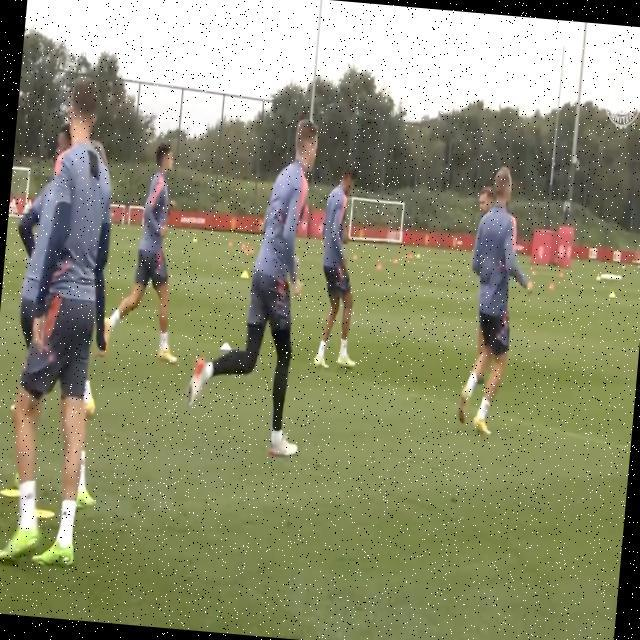Adidas: (9, 196, 33, 218)
